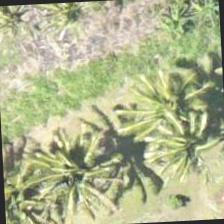Kelapa_Sawit: (127, 62, 222, 158), (47, 118, 142, 212), (146, 97, 223, 193), (20, 0, 112, 53), (2, 153, 61, 223)
